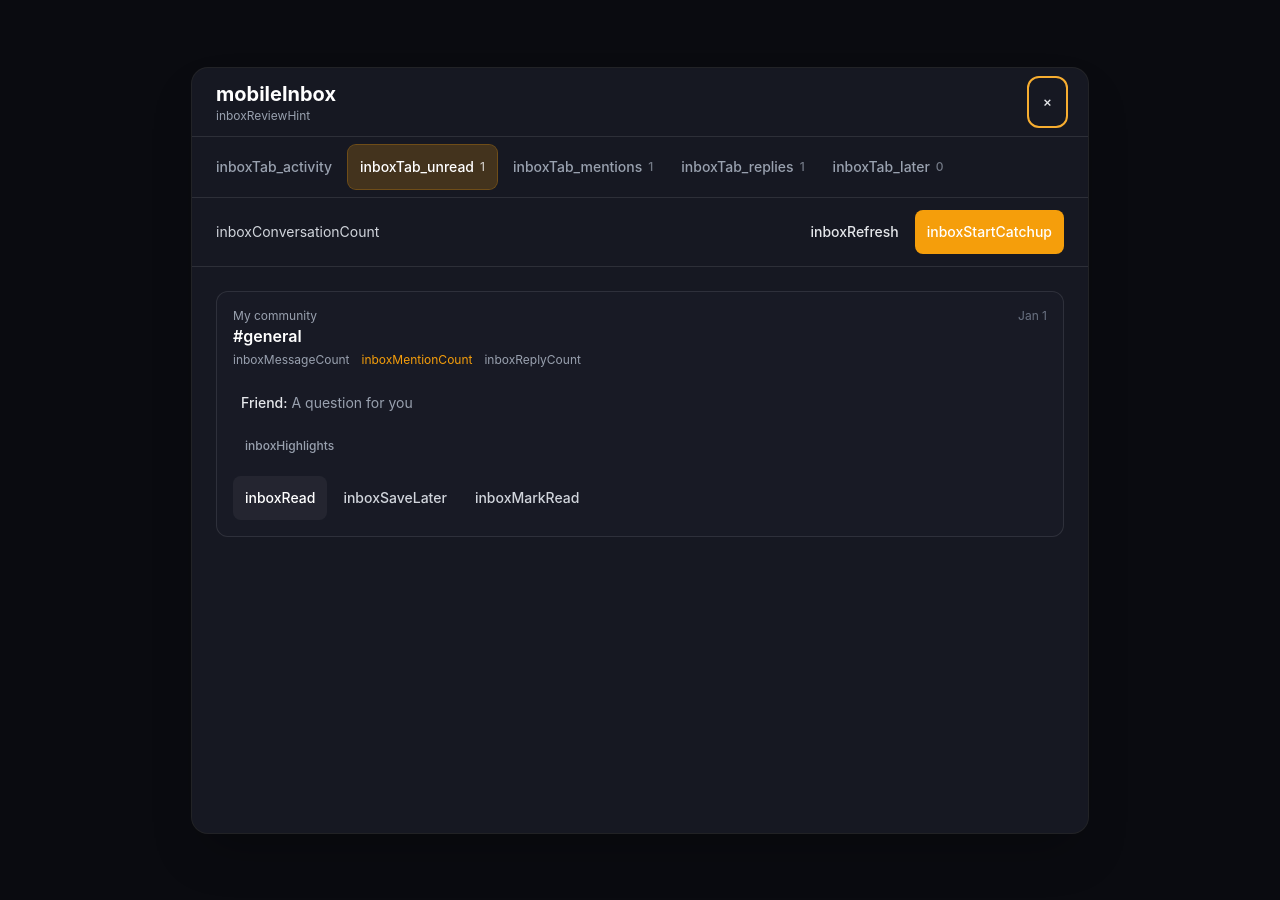
Test: renders grouped views and expands highlights without acknowledging them
Expected: the tab "inboxTab_mentions 1" is shown, [501,144,665,188]
Expected: the heading "#general" is shown, [233,326,302,346]
Click the button "inboxHighlights" at (290, 446), box [233,424,346,468]
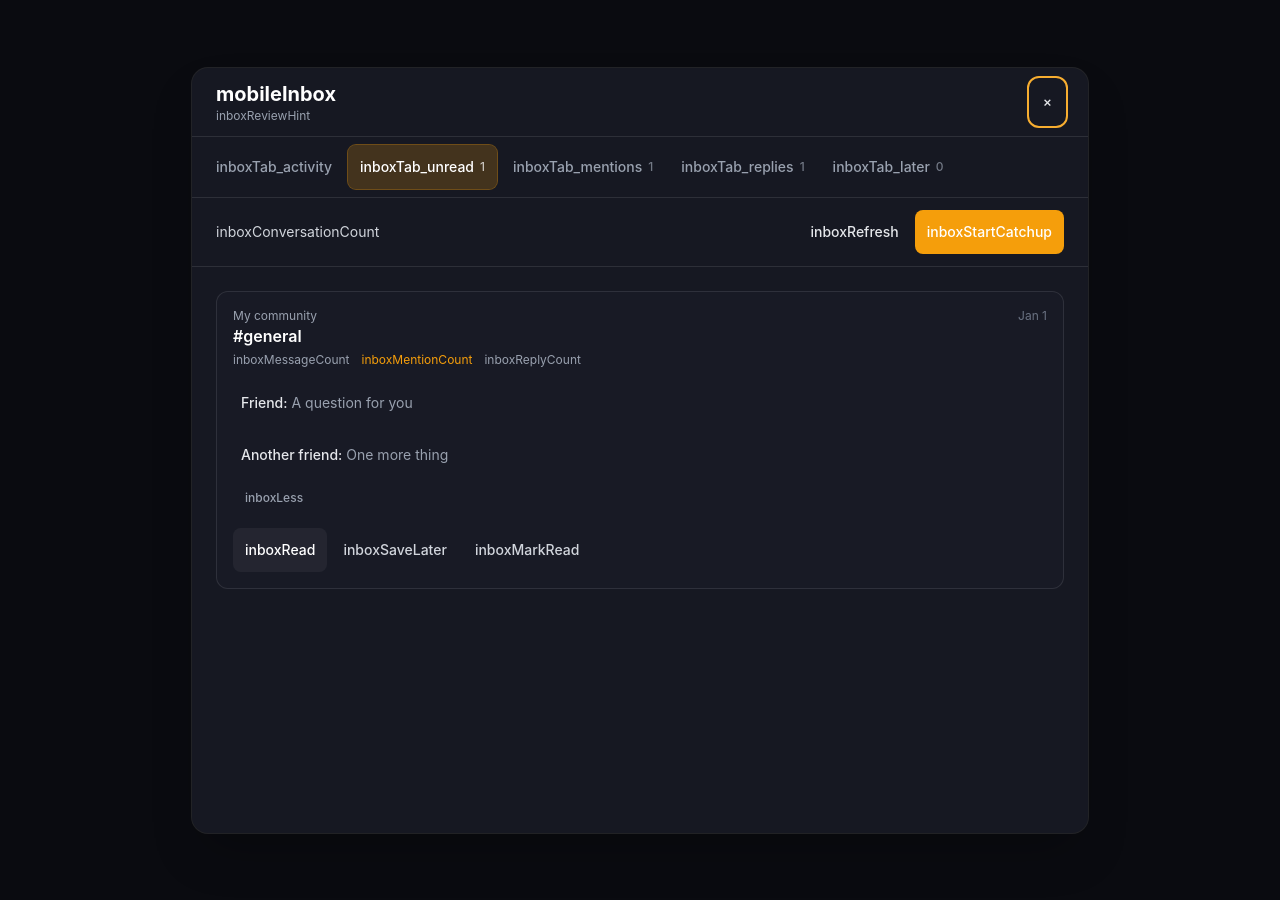
Now the text "One more thing" is shown, box [346,446,448,462]
